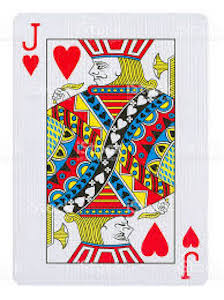JackOfHearts: (8, 9, 211, 289)
